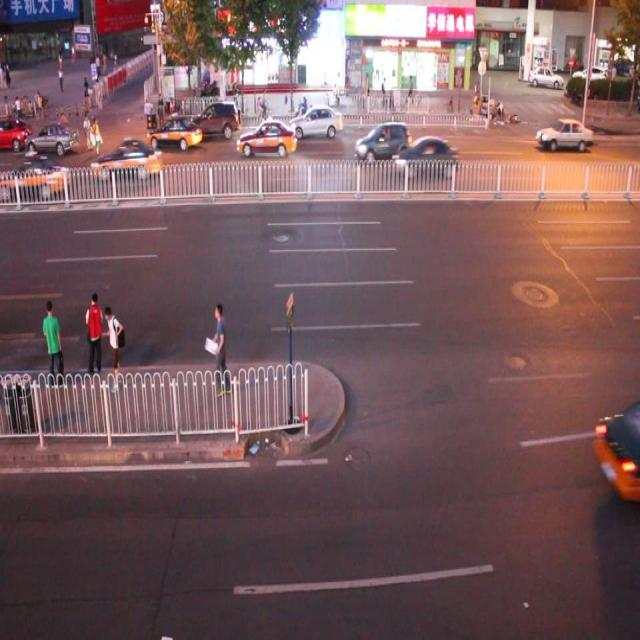car: (391, 134, 459, 180), (1, 154, 69, 198), (91, 139, 162, 179), (354, 121, 410, 162), (237, 118, 296, 156), (535, 116, 591, 153), (289, 102, 343, 140), (189, 100, 240, 138), (25, 123, 81, 157), (148, 115, 202, 150), (0, 115, 32, 150)
